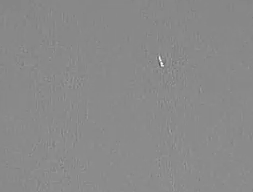Target: (159, 57, 163, 67)
